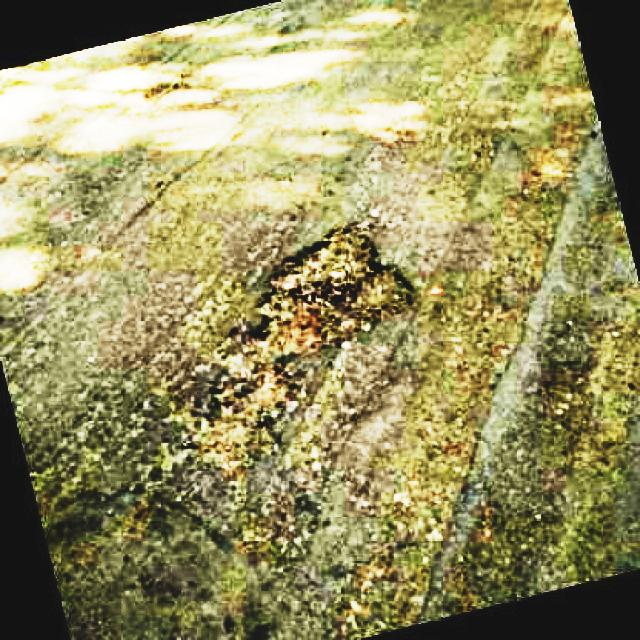pothole: (192, 225, 423, 460)
